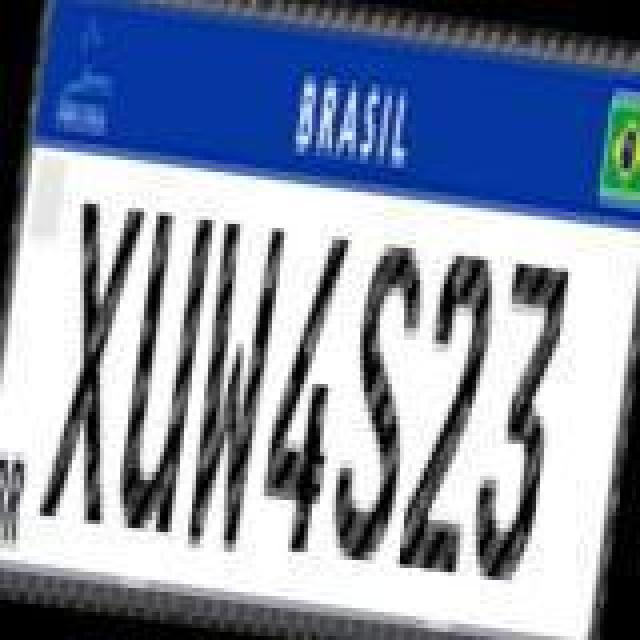2: (394, 242, 502, 574)
3: (460, 252, 572, 588)
4: (252, 224, 356, 560)
S: (320, 234, 432, 566)
U: (106, 208, 214, 544)
W: (176, 214, 288, 562)
X: (36, 192, 148, 528)
